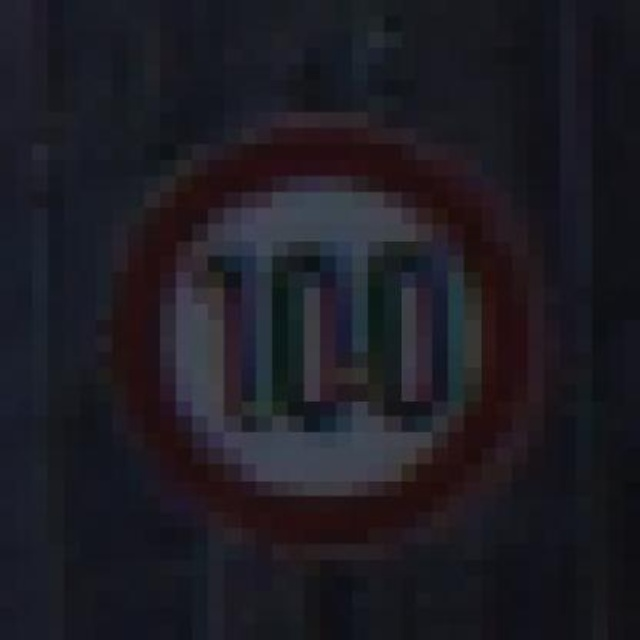Tốc độ tối đa cho phép 100km/h: (114, 123, 529, 543)
